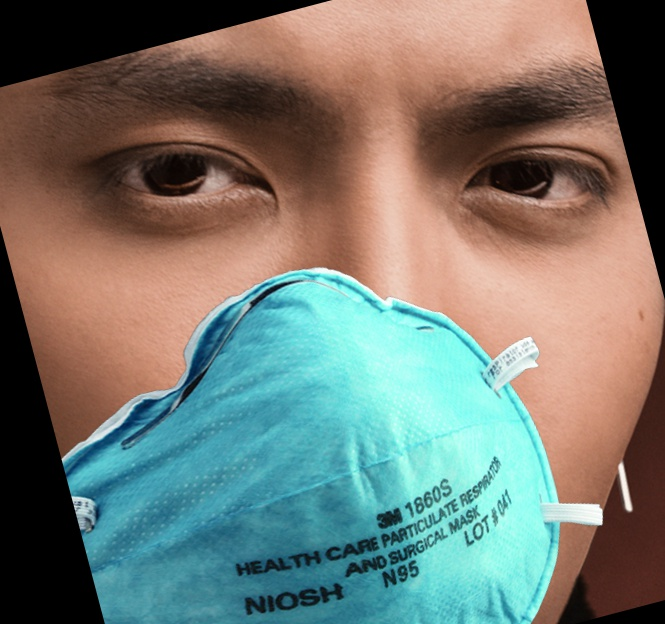good: (0, 0, 624, 624)
